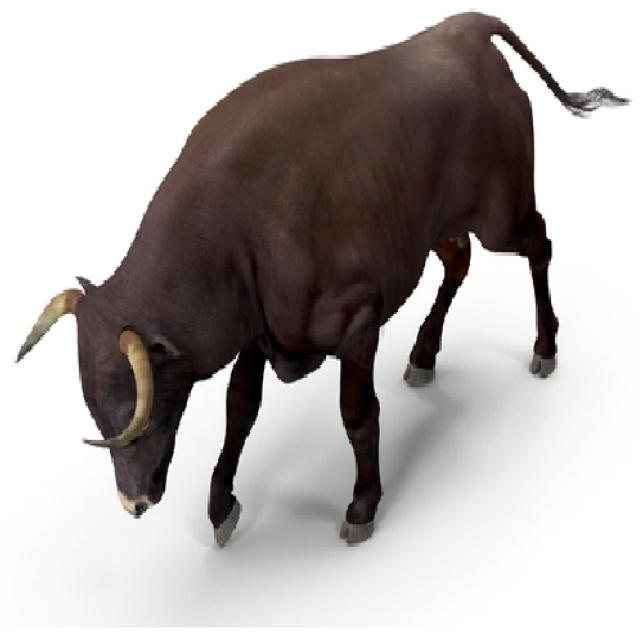Ox: (22, 0, 569, 566)
